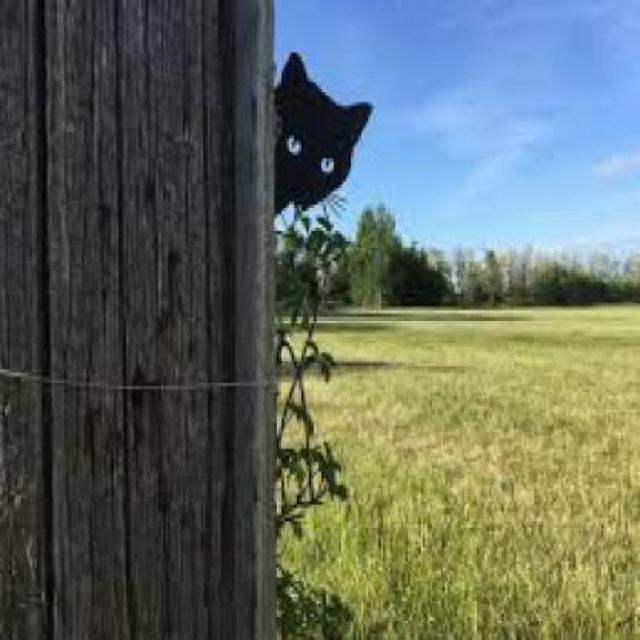animals: (275, 46, 393, 219)
